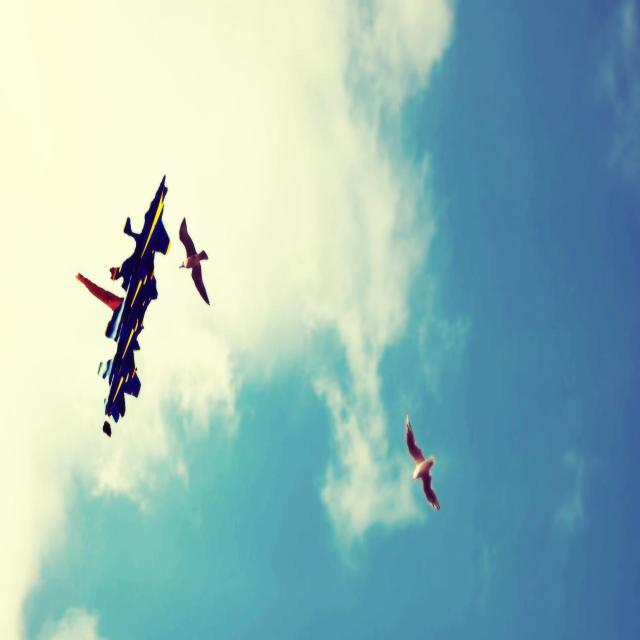airplane: (75, 173, 171, 437)
